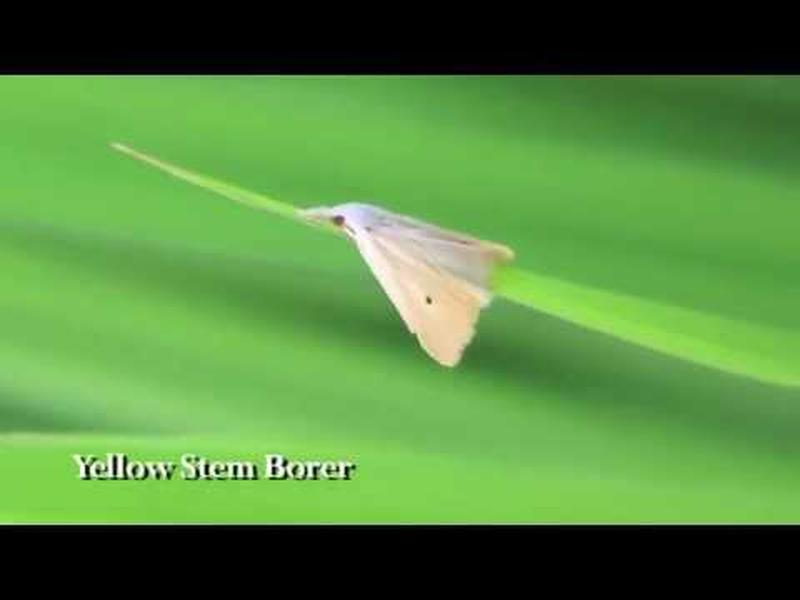Rice_skipper: (307, 172, 518, 386)
